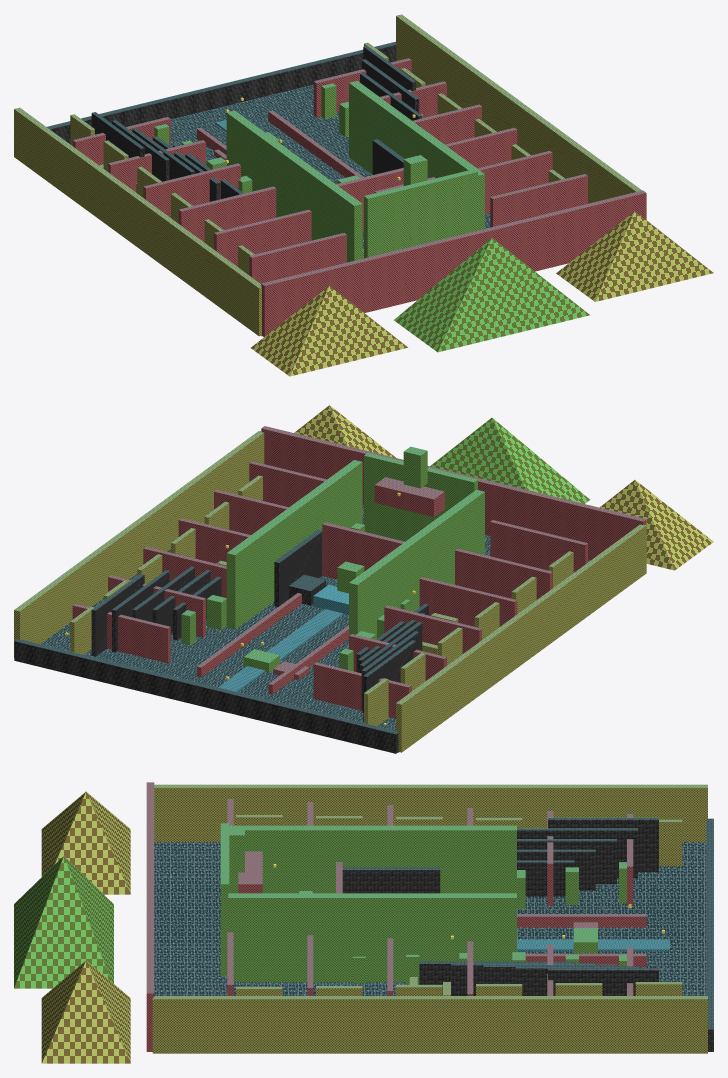
The model's file is one-bit-cathedral.glb.
3 views of the same model, one above another, from view 1: azimuth 30°, elevation 25°; view 2: azimuth 150°, elevation 25°; view 3: azimuth 270°, elevation 25° (orthographic). The views are drawn at different scales.
Visible parts, largest first — view 1: ART_one-bit-cathedral_outer_north_lintel, ART_one-bit-cathedral_outer_west_raster_wall, ART_one-bit-cathedral_center_raster_skyline, ART_one-bit-cathedral_outer_east_raster_wall, ART_one-bit-cathedral_left_central_pier, ART_one-bit-cathedral_right_raster_skyline, ART_one-bit-cathedral_left_raster_skyline, ART_one-bit-cathedral_rear_tower_face, ART_one-bit-cathedral_one_bit_floor, ART_one-bit-cathedral_outer_south_threshold, WALKABLE_one-bit-cathedral_one_bit_floor, ART_one-bit-cathedral_right_central_pier (+29 smaller); view 2: ART_one-bit-cathedral_outer_west_raster_wall, ART_one-bit-cathedral_outer_east_raster_wall, ART_one-bit-cathedral_one_bit_floor, ART_one-bit-cathedral_outer_north_lintel, WALKABLE_one-bit-cathedral_one_bit_floor, ART_one-bit-cathedral_outer_south_threshold, ART_one-bit-cathedral_right_central_pier, ART_one-bit-cathedral_left_central_pier, ART_one-bit-cathedral_center_raster_skyline, ART_one-bit-cathedral_rear_tower_face, ART_one-bit-cathedral_left_raster_skyline, ART_one-bit-cathedral_west_horizontal_band_1 (+47 smaller); view 3: ART_one-bit-cathedral_outer_east_raster_wall, ART_one-bit-cathedral_one_bit_floor, WALKABLE_one-bit-cathedral_one_bit_floor, ART_one-bit-cathedral_right_central_pier, ART_one-bit-cathedral_outer_west_raster_wall, ART_one-bit-cathedral_left_central_pier, ART_one-bit-cathedral_center_raster_skyline, ART_one-bit-cathedral_right_raster_skyline, ART_one-bit-cathedral_left_raster_skyline, ART_one-bit-cathedral_left_altar_return, ART_one-bit-cathedral_outer_north_lintel, ART_one-bit-cathedral_left_nested_arch_5 (+37 smaller).
Boxes of the visible parts, x1=… form: ART_one-bit-cathedral_outer_north_lintel: x1=261, y1=190, x2=646, y2=336; ART_one-bit-cathedral_outer_west_raster_wall: x1=14, y1=107, x2=261, y2=336; ART_one-bit-cathedral_center_raster_skyline: x1=394, y1=238, x2=589, y2=352; ART_one-bit-cathedral_outer_east_raster_wall: x1=396, y1=14, x2=646, y2=219; ART_one-bit-cathedral_left_central_pier: x1=226, y1=110, x2=362, y2=262; ART_one-bit-cathedral_right_raster_skyline: x1=556, y1=211, x2=713, y2=301; ART_one-bit-cathedral_left_raster_skyline: x1=251, y1=286, x2=407, y2=376; ART_one-bit-cathedral_rear_tower_face: x1=364, y1=169, x2=477, y2=258; ART_one-bit-cathedral_one_bit_floor: x1=170, y1=84, x2=490, y2=336; ART_one-bit-cathedral_outer_south_threshold: x1=47, y1=41, x2=396, y2=143; WALKABLE_one-bit-cathedral_one_bit_floor: x1=171, y1=85, x2=489, y2=249; ART_one-bit-cathedral_right_central_pier: x1=349, y1=81, x2=484, y2=230; ART_one-bit-cathedral_outer_west_raster_wall: x1=396, y1=524, x2=646, y2=752; ART_one-bit-cathedral_outer_east_raster_wall: x1=14, y1=431, x2=264, y2=657; ART_one-bit-cathedral_one_bit_floor: x1=41, y1=505, x2=590, y2=752; ART_one-bit-cathedral_outer_north_lintel: x1=261, y1=426, x2=646, y2=560; WALKABLE_one-bit-cathedral_one_bit_floor: x1=42, y1=505, x2=589, y2=730; ART_one-bit-cathedral_outer_south_threshold: x1=14, y1=639, x2=398, y2=753; ART_one-bit-cathedral_right_central_pier: x1=226, y1=460, x2=362, y2=629; ART_one-bit-cathedral_left_central_pier: x1=349, y1=489, x2=484, y2=639; ART_one-bit-cathedral_center_raster_skyline: x1=430, y1=417, x2=589, y2=503; ART_one-bit-cathedral_rear_tower_face: x1=364, y1=453, x2=477, y2=541; ART_one-bit-cathedral_left_raster_skyline: x1=599, y1=480, x2=713, y2=570; ART_one-bit-cathedral_west_horizontal_band_1: x1=490, y1=520, x2=587, y2=572; ART_one-bit-cathedral_outer_east_raster_wall: x1=152, y1=996, x2=707, y2=1053; ART_one-bit-cathedral_one_bit_floor: x1=154, y1=842, x2=706, y2=995; WALKABLE_one-bit-cathedral_one_bit_floor: x1=154, y1=842, x2=705, y2=995; ART_one-bit-cathedral_right_central_pier: x1=228, y1=893, x2=516, y2=982; ART_one-bit-cathedral_outer_west_raster_wall: x1=154, y1=784, x2=707, y2=842; ART_one-bit-cathedral_left_central_pier: x1=229, y1=825, x2=516, y2=893; ART_one-bit-cathedral_center_raster_skyline: x1=14, y1=856, x2=113, y2=988; ART_one-bit-cathedral_right_raster_skyline: x1=41, y1=960, x2=130, y2=1063; ART_one-bit-cathedral_left_raster_skyline: x1=41, y1=791, x2=130, y2=894; ART_one-bit-cathedral_left_altar_return: x1=342, y1=867, x2=440, y2=893; ART_one-bit-cathedral_outer_north_lintel: x1=146, y1=782, x2=154, y2=1051; ART_one-bit-cathedral_left_nested_arch_5: x1=548, y1=818, x2=658, y2=872.
Size of what is drawn, in the model's own units: 50 by 19.64 by 63.05.
7 materials, 5 textured.
